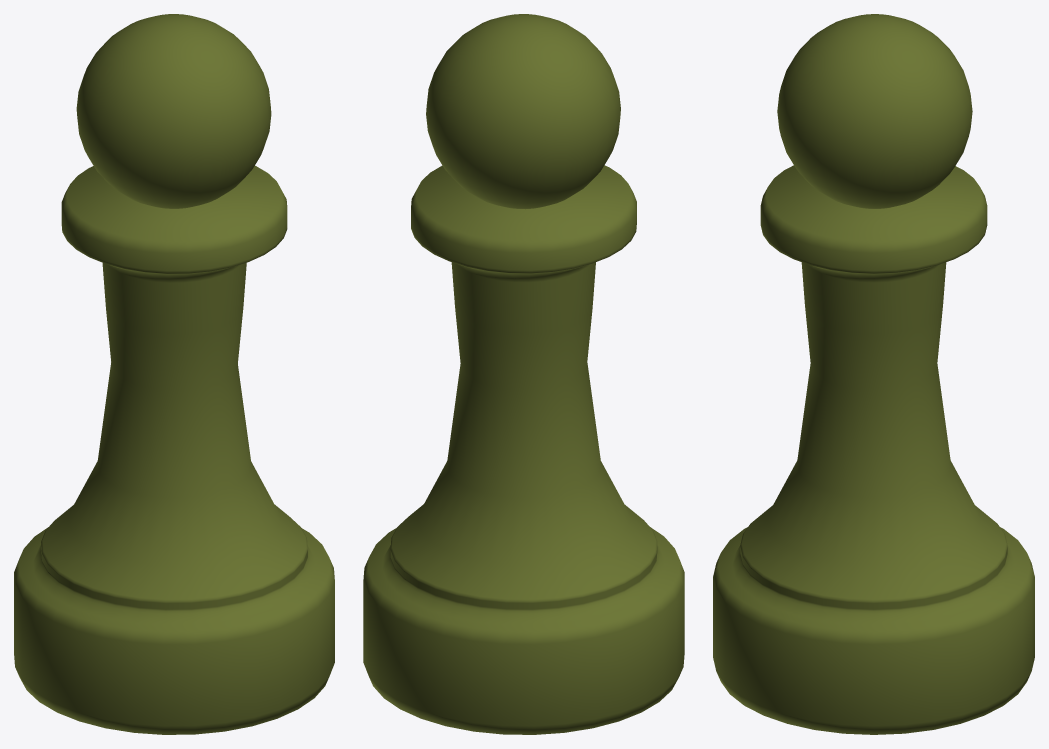
Rendered from deco.fbx.
3 views of the same model, side by side, from view 1: azimuth 30°, elevation 25°; view 2: azimuth 150°, elevation 25°; view 3: azimuth 270°, elevation 25° (orthographic).
Parts seen in each view (by area): view 1: Sphere; view 2: Sphere; view 3: Sphere.
Boxes of the visible parts, bbox=[...] form: Sphere: bbox=[14, 14, 334, 734]; Sphere: bbox=[363, 14, 684, 734]; Sphere: bbox=[713, 14, 1034, 734].
Bounding box in the file's own units: 176 × 176 × 389.
